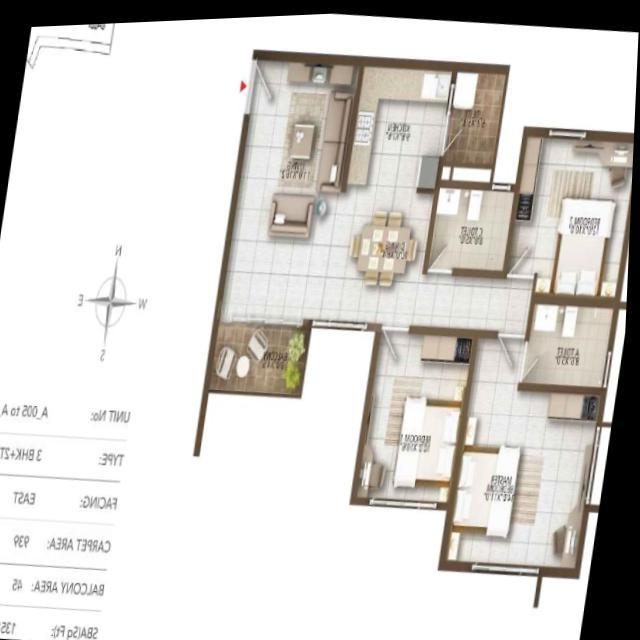Balcony-Sitout: (206, 308, 316, 396)
Bedroom: (355, 321, 482, 507), (503, 129, 635, 299)
Bedroom with Toilet: (444, 290, 623, 578)
Dining: (341, 204, 429, 292)
Enterance-Foyer: (226, 48, 292, 113)
Kitchen: (343, 55, 460, 195)
Living: (217, 45, 362, 324)
Toilet: (522, 292, 625, 391), (425, 177, 520, 279)
Utility: (438, 57, 512, 190)
